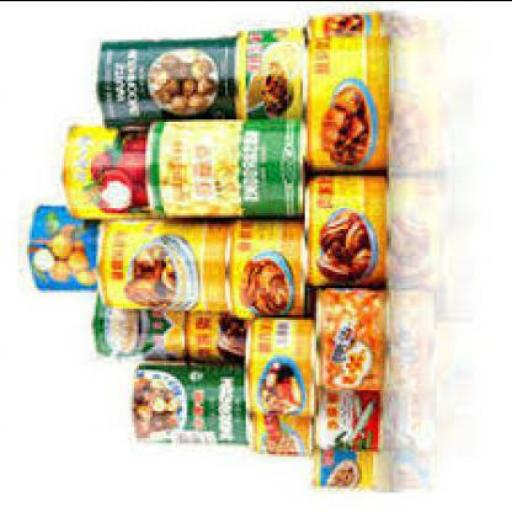metal: (143, 113, 303, 214), (300, 9, 389, 171), (96, 34, 234, 125), (100, 216, 228, 314), (303, 168, 386, 282), (130, 358, 243, 438), (59, 120, 145, 216), (232, 214, 305, 319), (312, 284, 385, 386), (241, 314, 314, 412), (18, 200, 98, 286), (231, 27, 303, 116), (91, 291, 185, 358), (311, 387, 378, 446), (182, 306, 241, 360), (309, 443, 378, 485), (243, 409, 312, 451)
